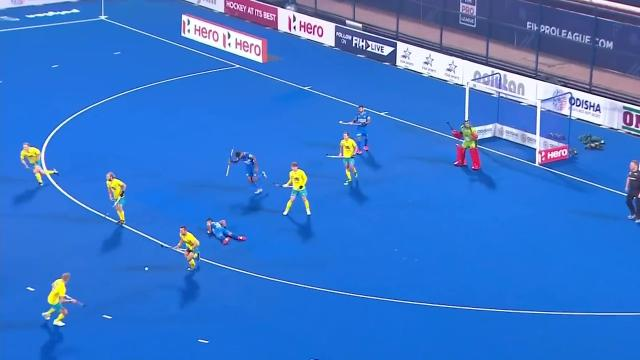ball: (142, 266, 150, 273)
